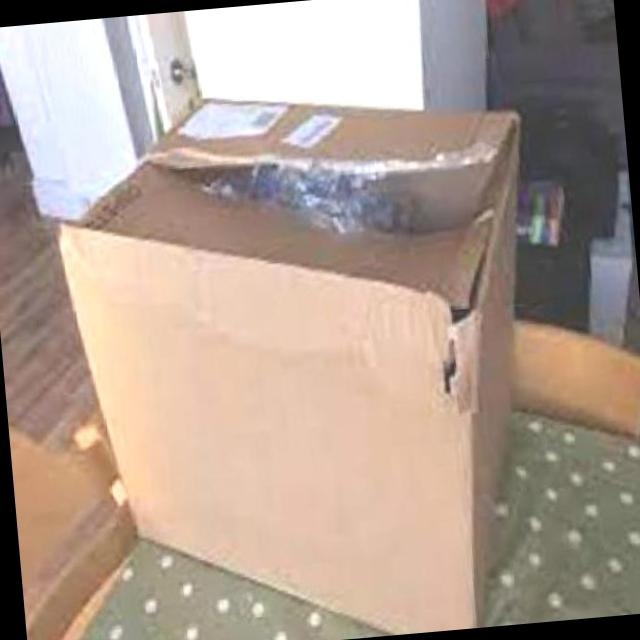box: (78, 109, 519, 634)
tear: (145, 144, 494, 234), (441, 238, 493, 402)
